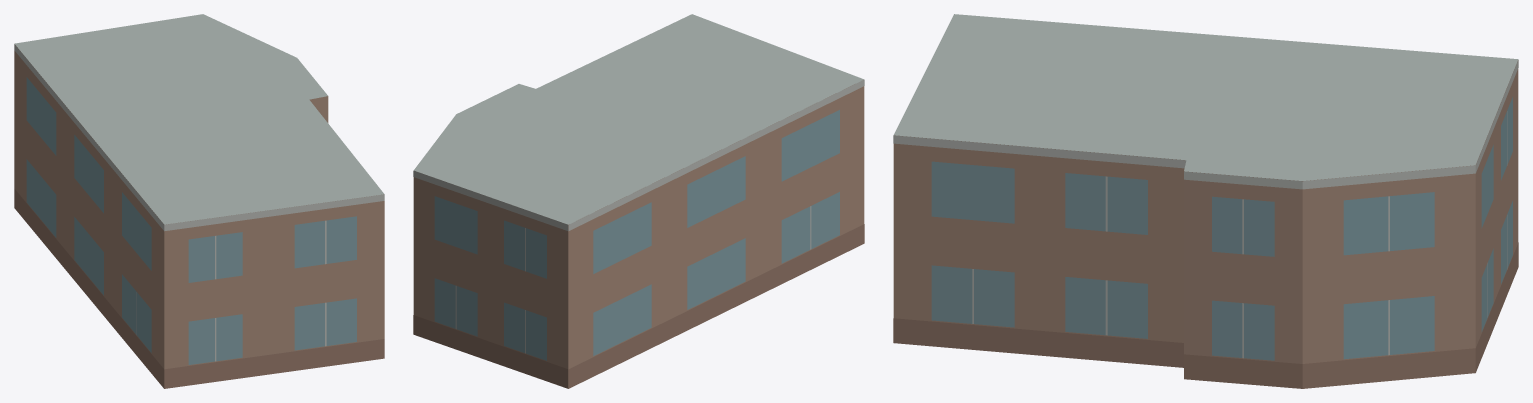
Rendered from survey-upis-32712823.glb.
3 views of the same model, side by side, from view 1: azimuth 30°, elevation 25°; view 2: azimuth 150°, elevation 25°; view 3: azimuth 270°, elevation 25° (orthographic). The views are drawn at different scales.
Visible parts, largest first — view 1: survey-upis-32712823.tmp; view 2: survey-upis-32712823.tmp; view 3: survey-upis-32712823.tmp.
Part boxes in pixels (x1=…): survey-upis-32712823.tmp: x1=14, y1=14, x2=384, y2=388; survey-upis-32712823.tmp: x1=413, y1=14, x2=864, y2=388; survey-upis-32712823.tmp: x1=893, y1=14, x2=1518, y2=388.
Bounding box in the file's own units: 10.53 × 6.1 × 16.64.
